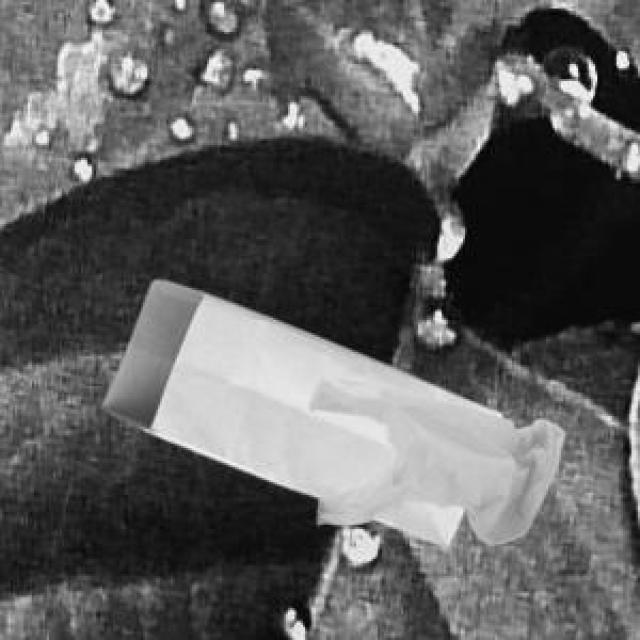paper: (100, 275, 482, 542)
